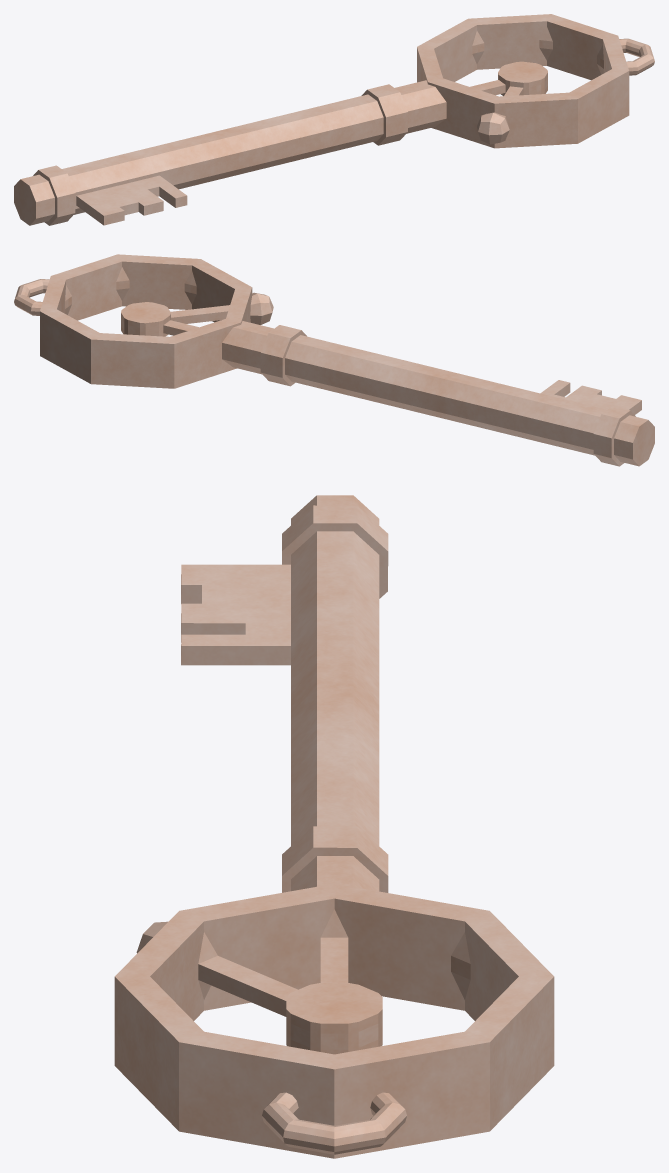
The model's file is Key2.fbx.
3 renders of one model, top to bottom at view 1: azimuth 30°, elevation 25°; view 2: azimuth 150°, elevation 25°; view 3: azimuth 270°, elevation 25°, orthographic. The views are drawn at different scales.
Parts seen in each view (by area): view 1: Key2; view 2: Key2; view 3: Key2.
Part boxes in pixels (x1=…): Key2: x1=14, y1=14, x2=654, y2=225; Key2: x1=14, y1=254, x2=654, y2=466; Key2: x1=114, y1=495, x2=554, y2=1158.
Bounding box in the file's own units: 63.25 × 4.65 × 19.22.
